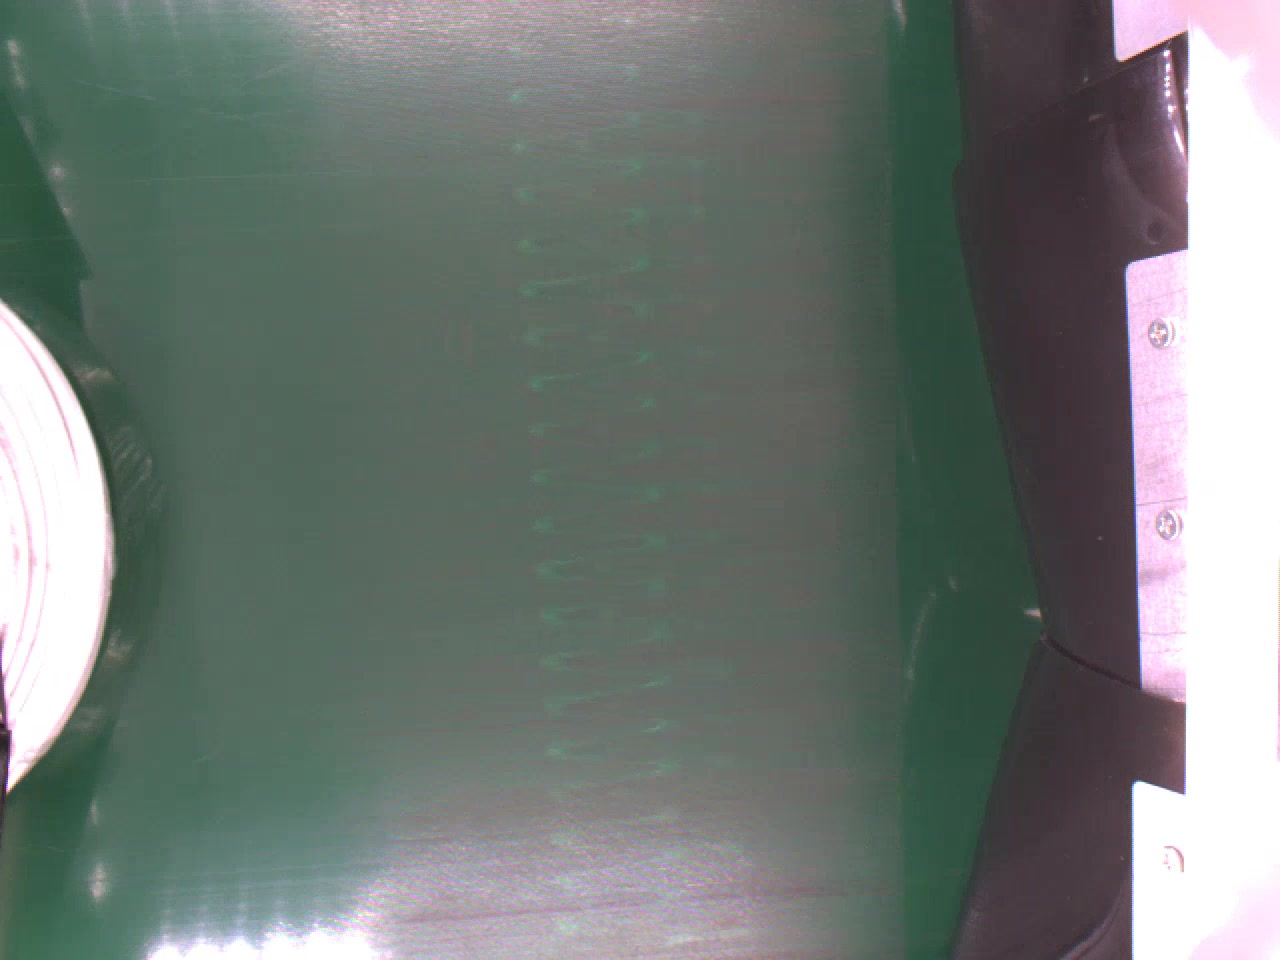white: (0, 292, 116, 798)
